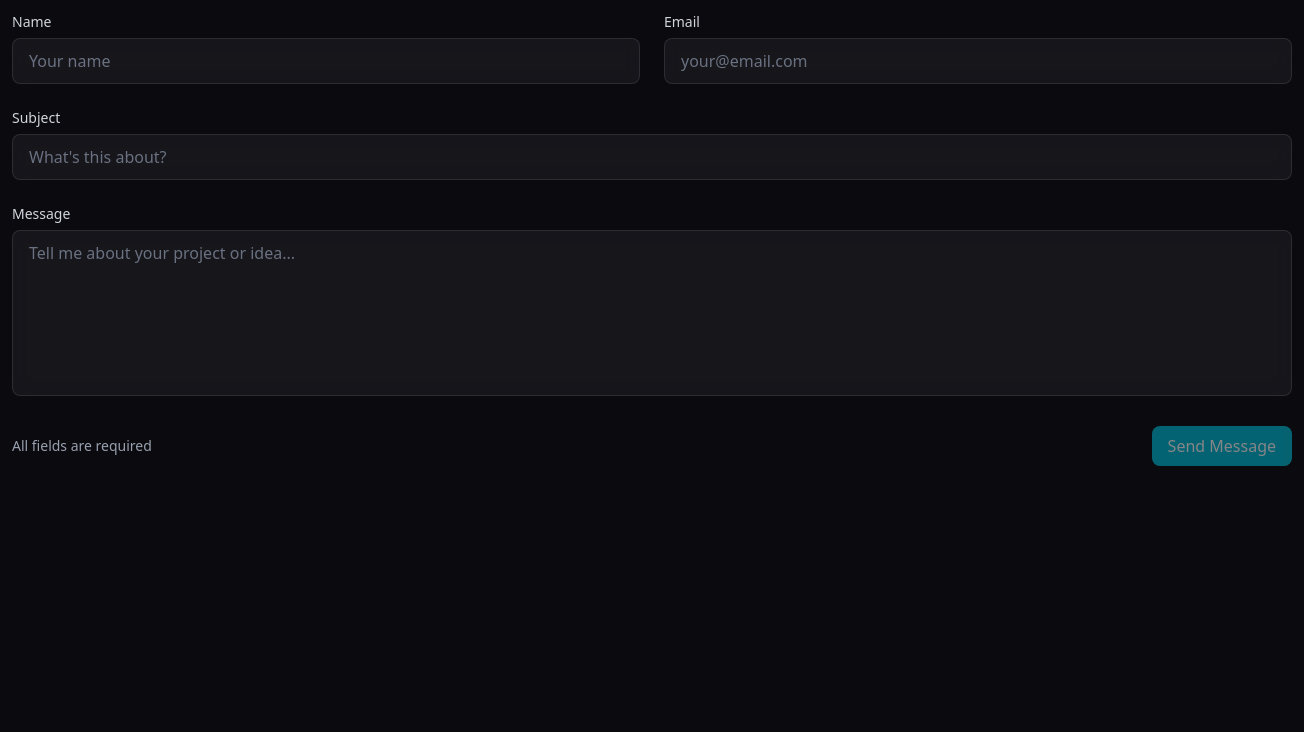
ContactForm › shows error message when submission fails
Type "John Doe" into the field labelled "Name". click: x=326, y=61
box: top-left (12, 38), bottom-right (640, 84)
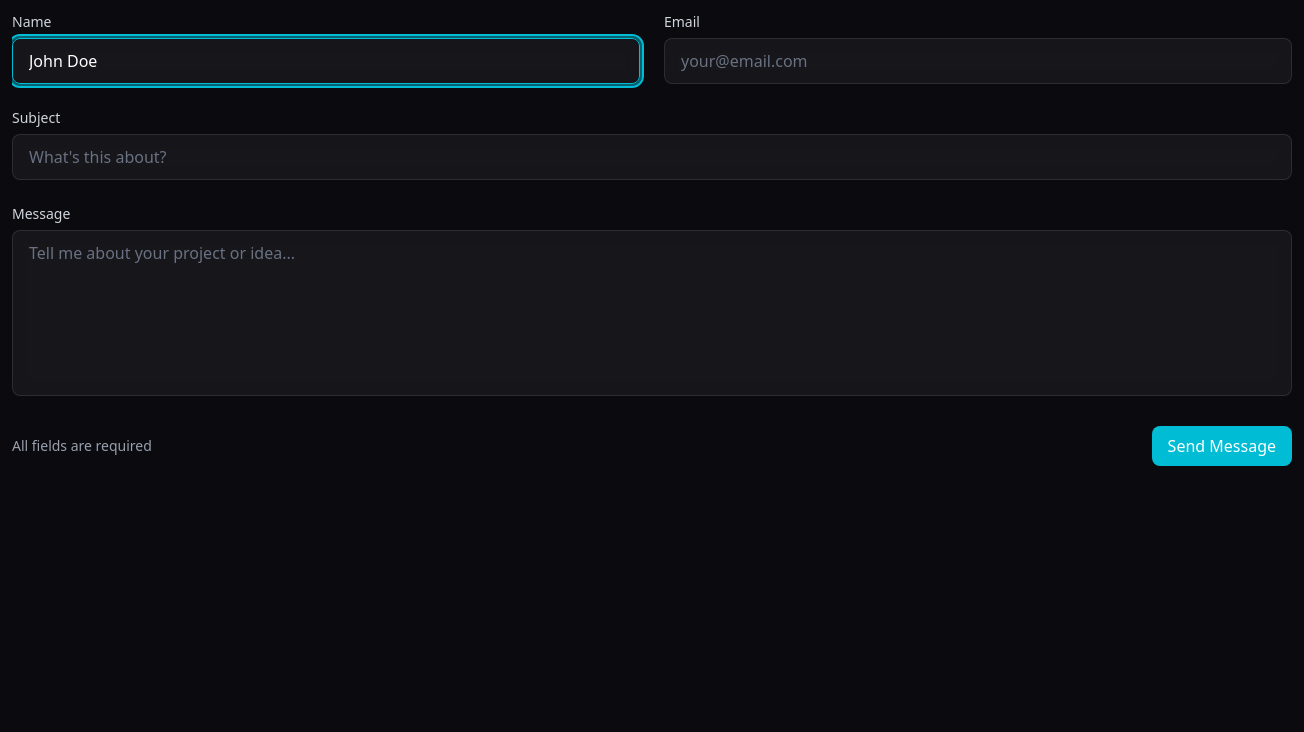
Type "john@example.com" into the field labelled "Email". click: x=978, y=61
box: top-left (664, 38), bottom-right (1292, 84)
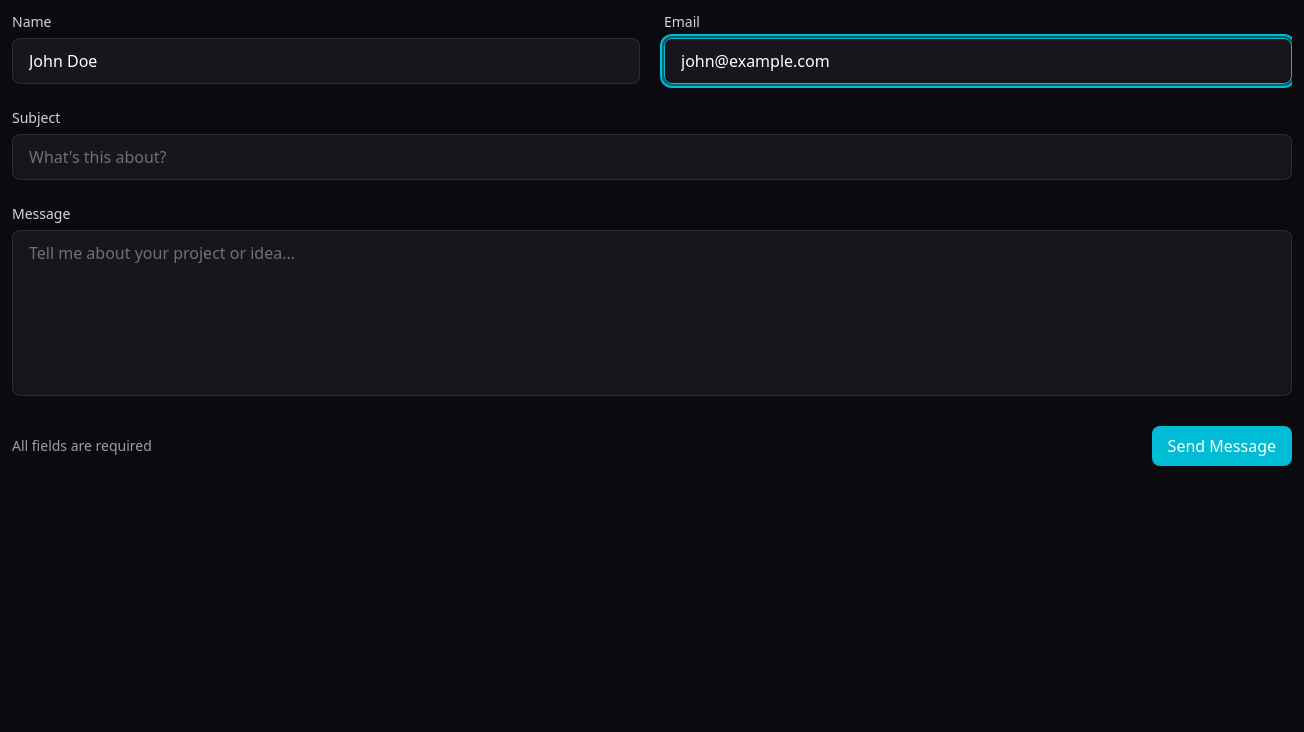
Type "Test Subject" into the field labelled "Subject". click: x=652, y=157
box: top-left (12, 134), bottom-right (1292, 180)
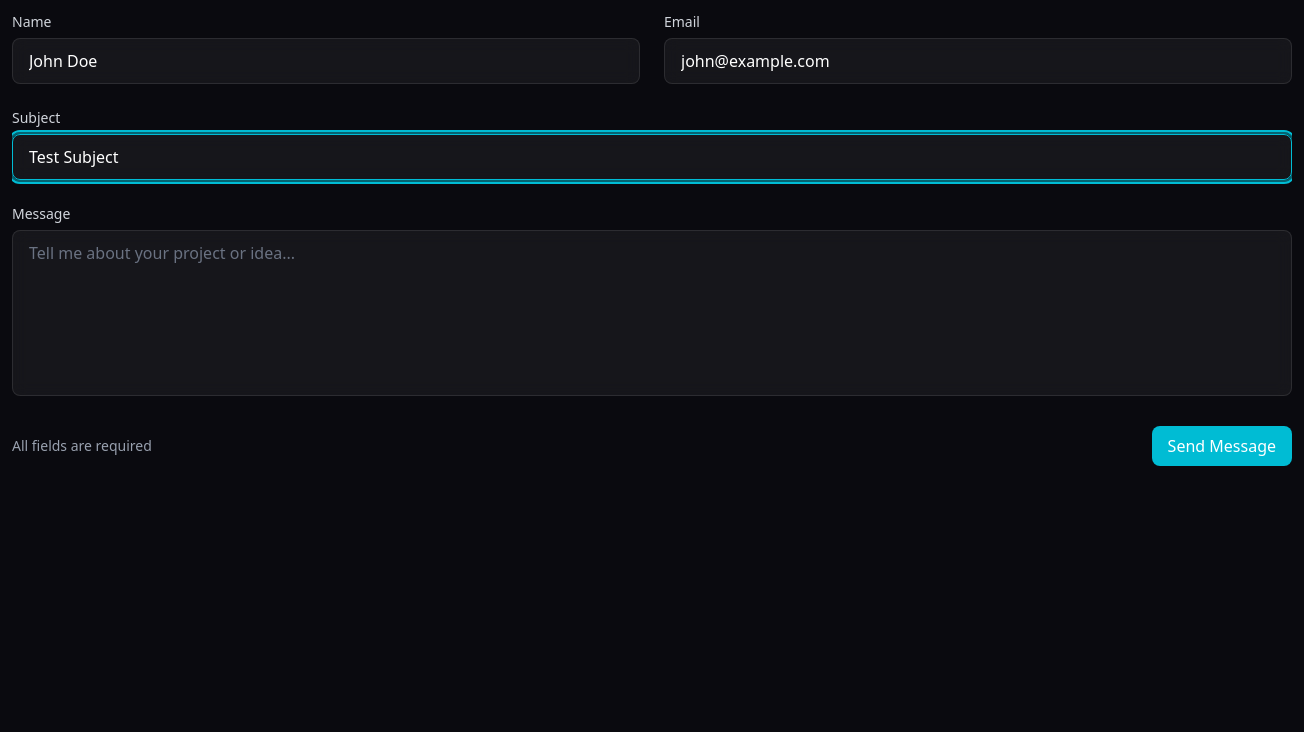
Type "This is a test message with enough characters to pass validation." into the text box labelled "Message". click: x=652, y=313
box: top-left (12, 230), bottom-right (1292, 396)
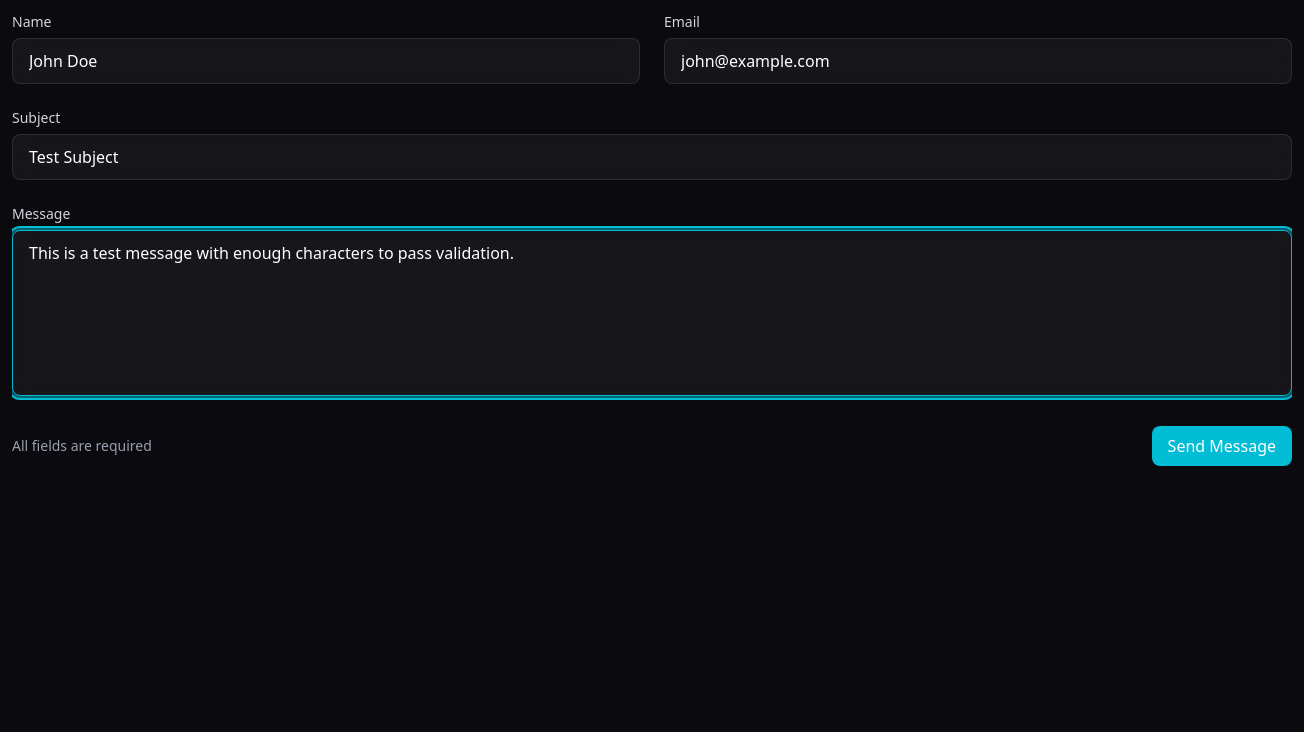
Click the button "Send Message". click: x=1222, y=446
box: top-left (1152, 426), bottom-right (1292, 466)
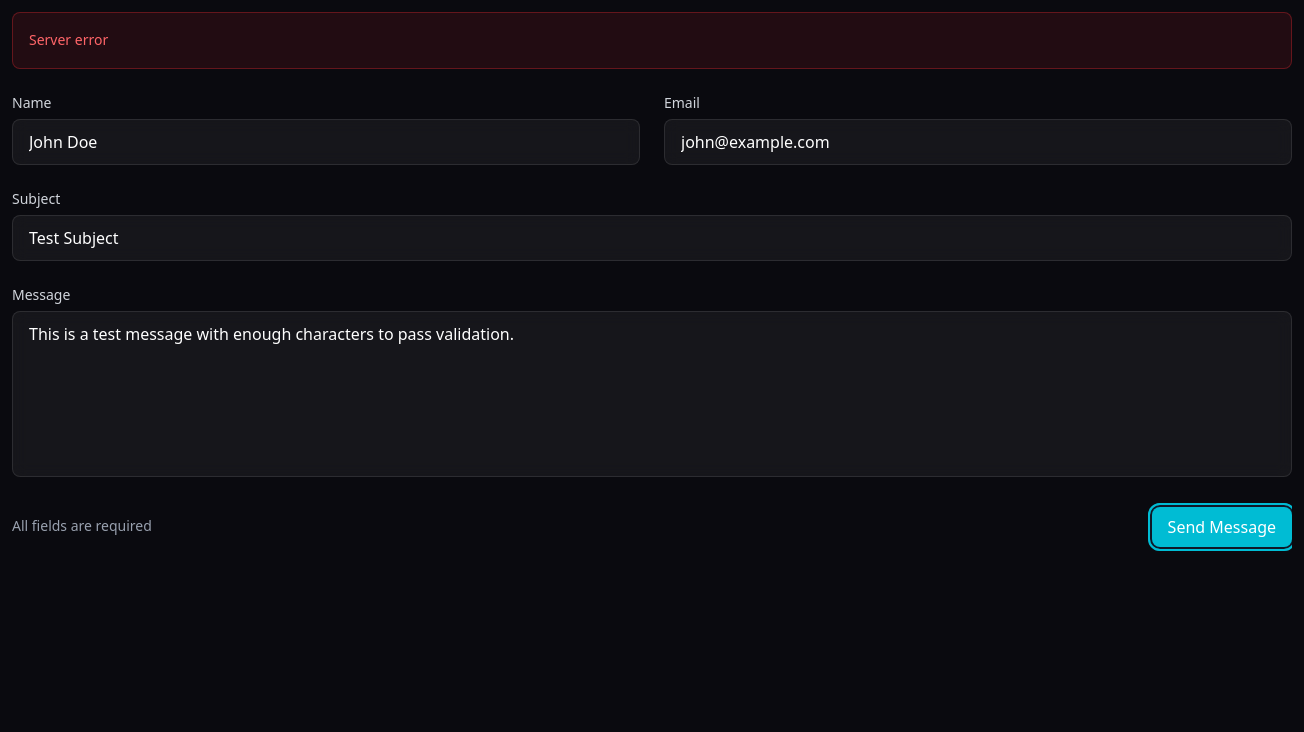
Check: the text "Server error" is shown, box top-left (29, 30), bottom-right (108, 49)
